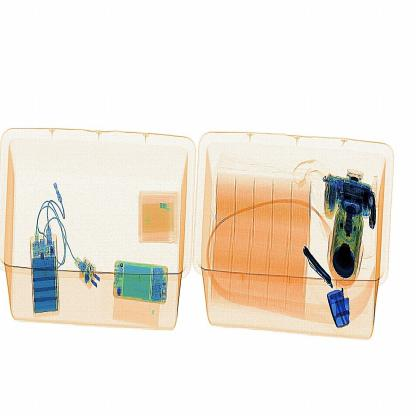knife: (303, 248, 333, 288)
